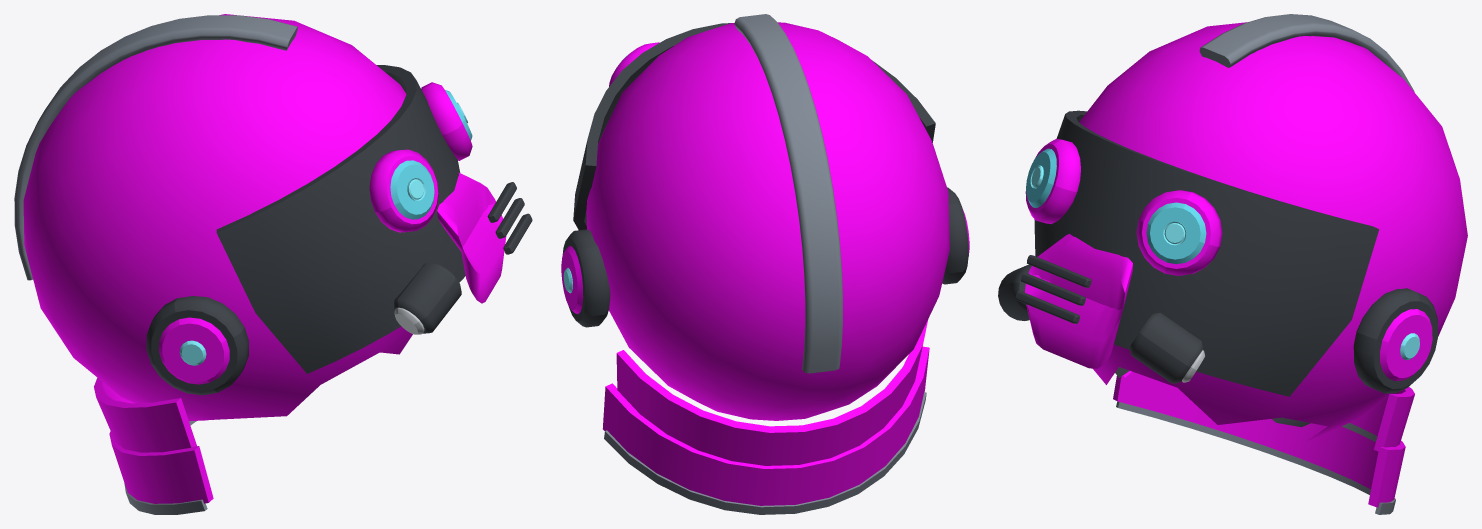
The model's file is objet_armure4_casque.glb.
3 views of the same model, side by side, from view 1: azimuth 30°, elevation 25°; view 2: azimuth 150°, elevation 25°; view 3: azimuth 270°, elevation 25° (orthographic). The views are drawn at different scales.
Visible parts, largest first — view 1: tete__casque_teinte.010, tete__casque_teinte_sombre.010, tete__casque_acier_lisere.002, tete__casque_visiere.004, tete__casque_lueur.002; view 2: tete__casque_teinte.010, tete__casque_acier_lisere.002, tete__casque_teinte_sombre.010; view 3: tete__casque_teinte.010, tete__casque_teinte_sombre.010, tete__casque_acier_lisere.002, tete__casque_visiere.004, tete__casque_lueur.002.
Boxes of the visible parts, <box> form: tete__casque_teinte.010: <box>23,14,506,503</box>; tete__casque_teinte_sombre.010: <box>146,65,532,395</box>; tete__casque_acier_lisere.002: <box>14,15,297,514</box>; tete__casque_visiere.004: <box>390,90,472,219</box>; tete__casque_lueur.002: <box>179,102,467,365</box>; tete__casque_teinte.010: <box>561,22,969,505</box>; tete__casque_acier_lisere.002: <box>604,14,926,514</box>; tete__casque_teinte_sombre.010: <box>562,23,968,327</box>; tete__casque_teinte.010: <box>1025,22,1467,507</box>; tete__casque_teinte_sombre.010: <box>998,110,1438,427</box>; tete__casque_acier_lisere.002: <box>1116,14,1414,514</box>; tete__casque_visiere.004: <box>1026,148,1206,264</box>; tete__casque_lueur.002: <box>1030,165,1419,360</box>.
Bounding box in the file's own units: 0.2883 × 0.3249 × 0.2867.
